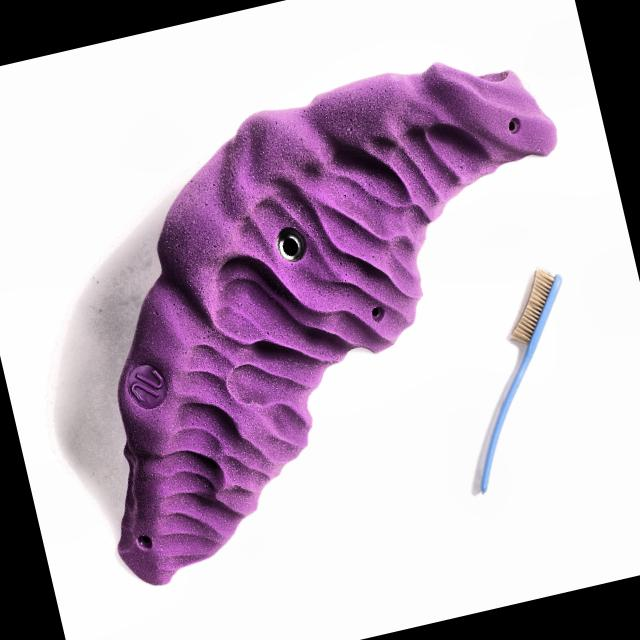Hold: (26, 33, 640, 589)
